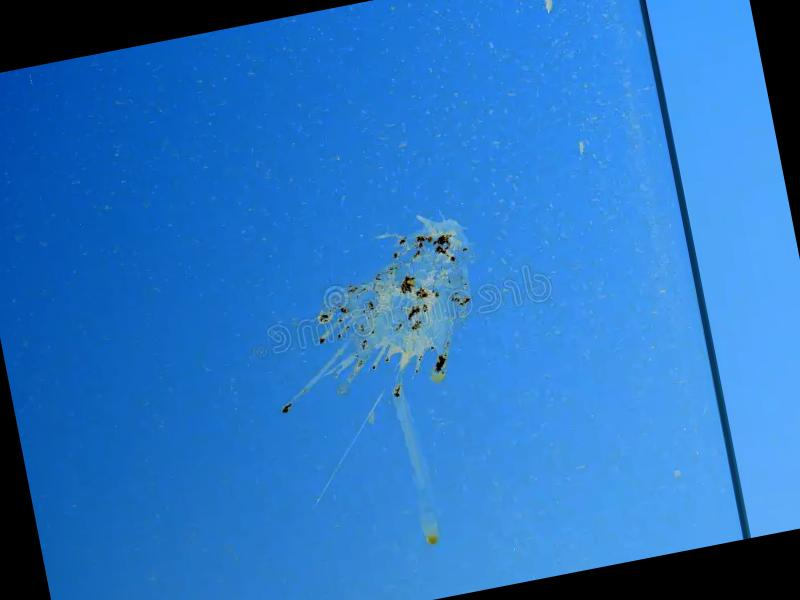Bird Poop: (281, 215, 471, 543), (316, 413, 371, 504), (372, 395, 381, 410)
